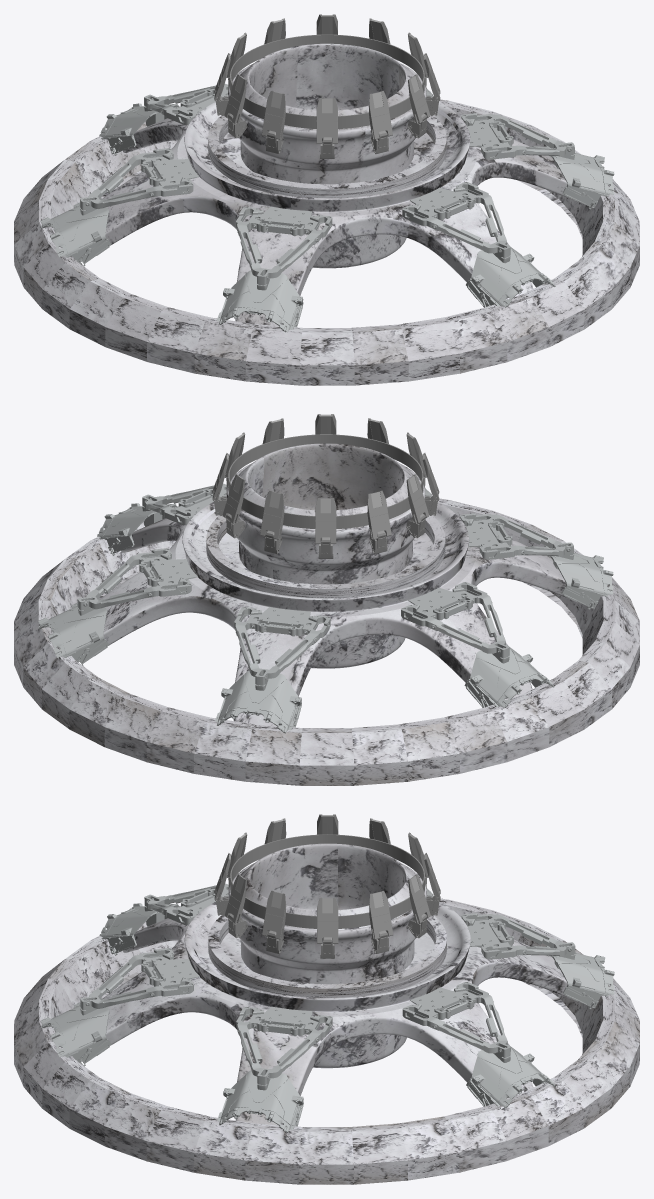
File: engine2Draco.gltf
The picture shows the model from 3 angles, top to bottom: view 1: azimuth 30°, elevation 25°; view 2: azimuth 150°, elevation 25°; view 3: azimuth 270°, elevation 25°; orthographic projection.
Visible parts, largest first — view 1: HeavyStructure_Part_7_1.5728; view 2: HeavyStructure_Part_7_1.5728; view 3: HeavyStructure_Part_7_1.5728.
Boxes of the visible parts, <box> form: HeavyStructure_Part_7_1.5728: <box>14,14,639,385</box>; HeavyStructure_Part_7_1.5728: <box>14,414,639,785</box>; HeavyStructure_Part_7_1.5728: <box>14,814,639,1184</box>.
Size of the model in its own units: 14.66 by 5.09 by 14.68.
Materials: 5 (3 with a texture image).
